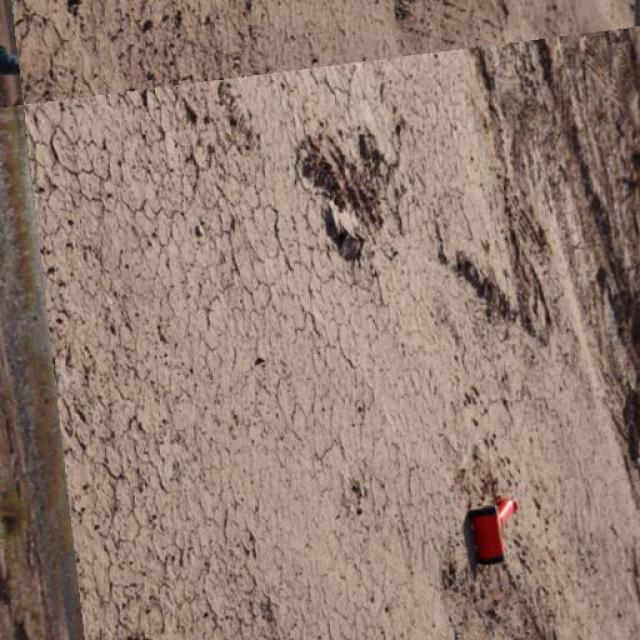mallet: (465, 496, 519, 565)
